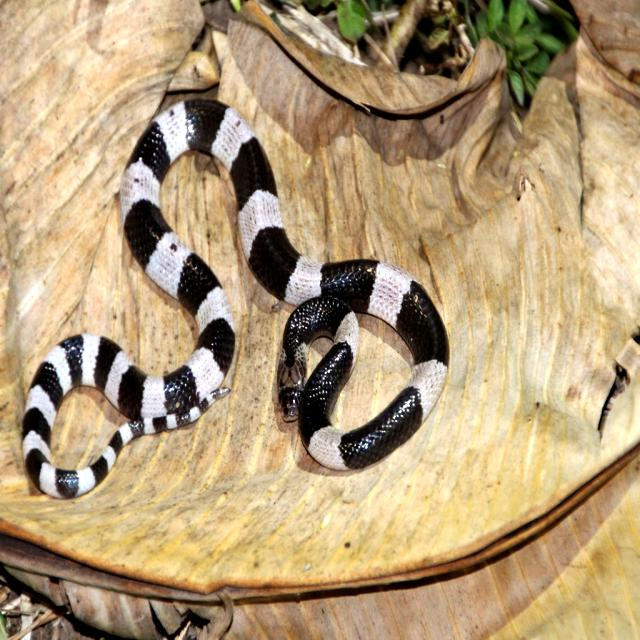Bungarus candidus: (23, 101, 448, 497)
